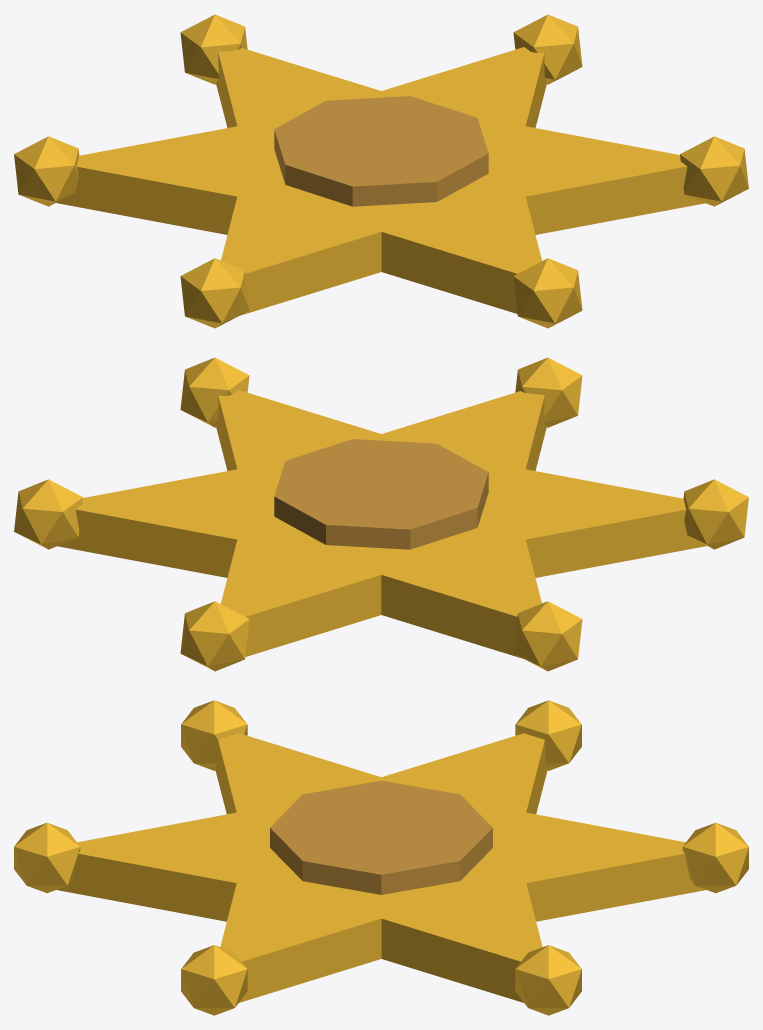
File: SM_Sheriff_Badge.obj
3 views of the same model, one above another, from view 1: azimuth 30°, elevation 25°; view 2: azimuth 150°, elevation 25°; view 3: azimuth 270°, elevation 25° (orthographic).
Parts seen in each view (by area): view 1: SM_Sheriff_Badge; view 2: SM_Sheriff_Badge; view 3: SM_Sheriff_Badge.
Boxes of the visible parts, left/top/right/bottom form: SM_Sheriff_Badge: left=14, top=14, right=748, bottom=328; SM_Sheriff_Badge: left=14, top=357, right=748, bottom=671; SM_Sheriff_Badge: left=14, top=700, right=748, bottom=1015.
Size of the model in its own units: 0.1164 by 0.014 by 0.1319.
